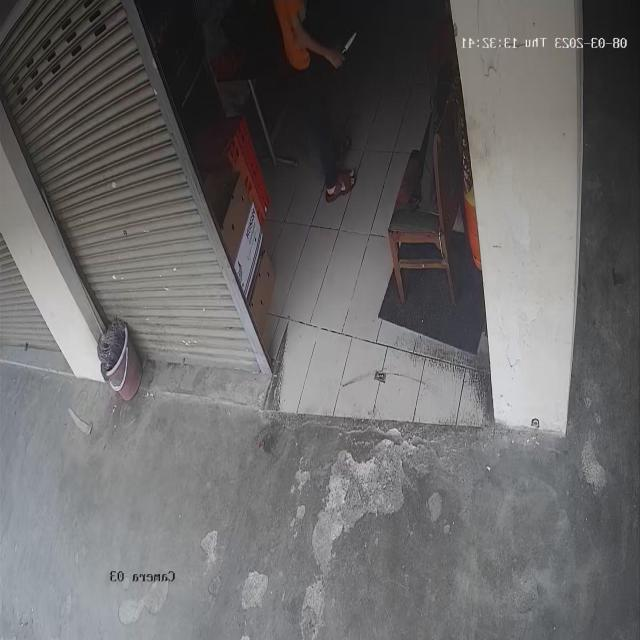Knife: (336, 20, 365, 64)
